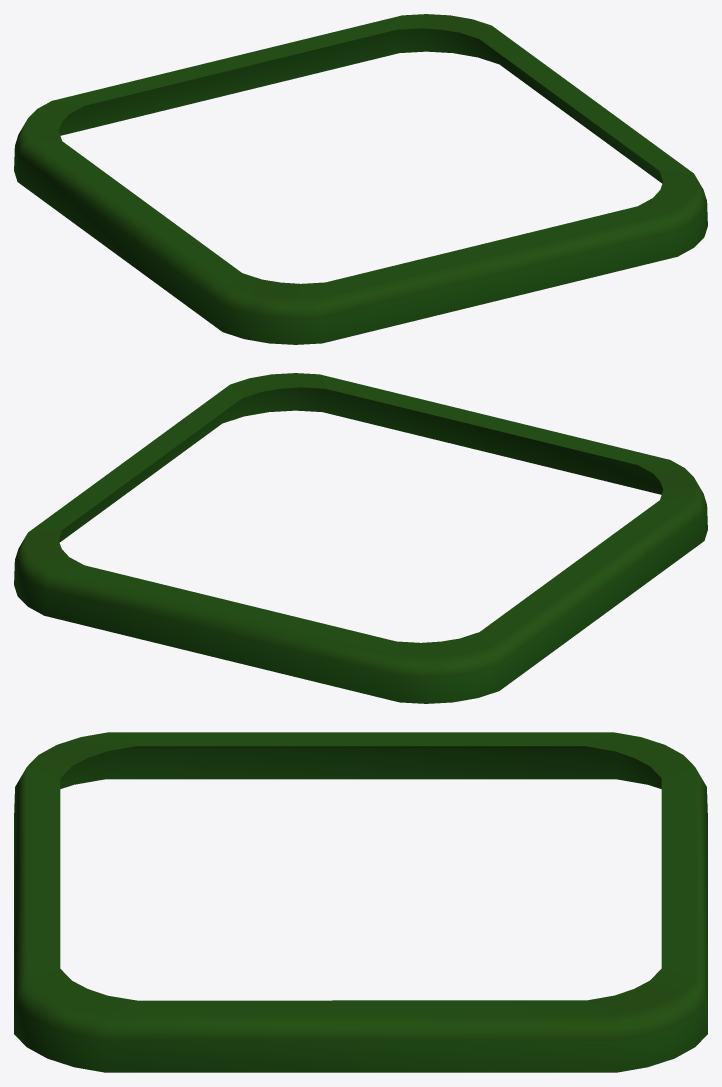
Rendered from Outline.fbx.
3 views of the same model, one above another, from view 1: azimuth 30°, elevation 25°; view 2: azimuth 150°, elevation 25°; view 3: azimuth 270°, elevation 25° (orthographic). The views are drawn at different scales.
Parts seen in each view (by area): view 1: Outline; view 2: Outline; view 3: Outline.
Boxes of the visible parts, box(x1,y1,x2,y2) form: Outline: box(14, 14, 707, 344); Outline: box(14, 373, 707, 703); Outline: box(14, 732, 707, 1072).
Size of the model in its own units: 107 by 8.93 by 107.
